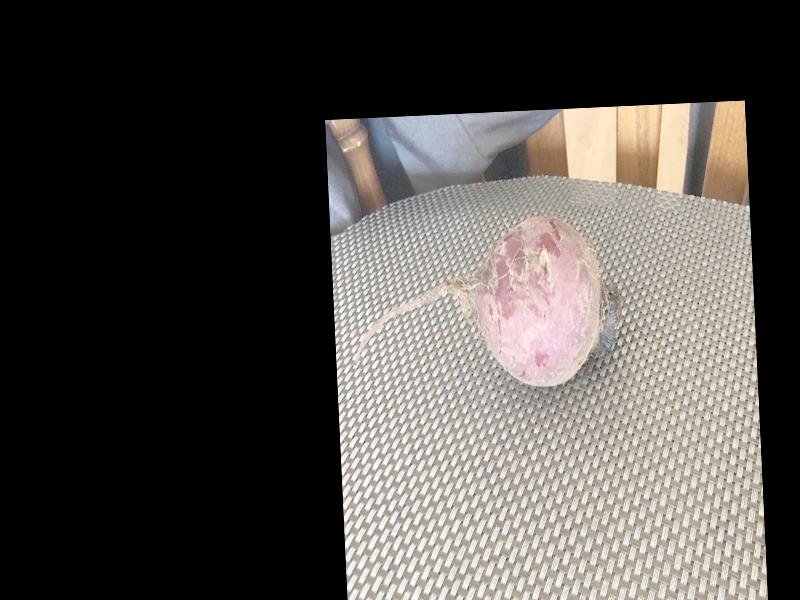Beet: (352, 210, 627, 394)
